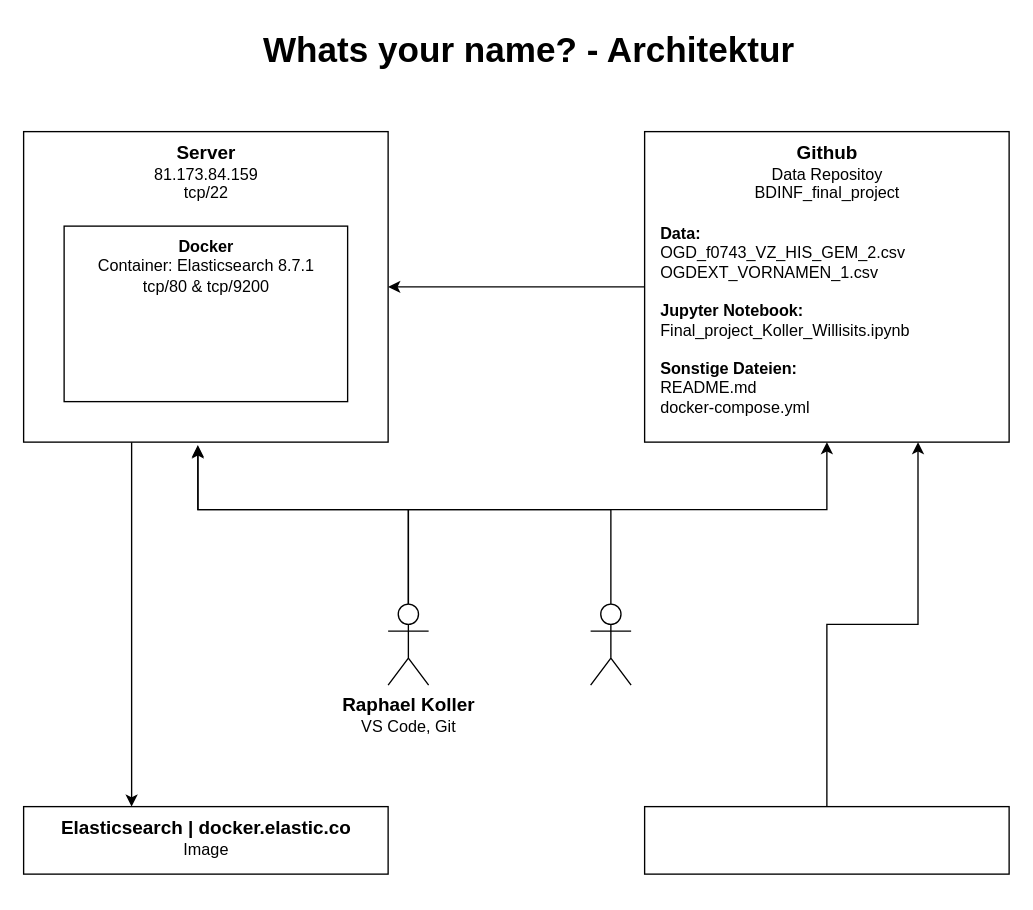
The diagram is 1033 pixels wide and 910 high, and some of its shapes have lost their labels. The shapes that lost their labels are listed below. From the top down, each one's box as (x1, y1, x2, y2) in pixels, then its label:
(589, 603, 631, 685): Lena Willisits JupyterLab, Git
(643, 805, 1009, 874): Offene Daten Österreich | data.gv.at Datenquellen
